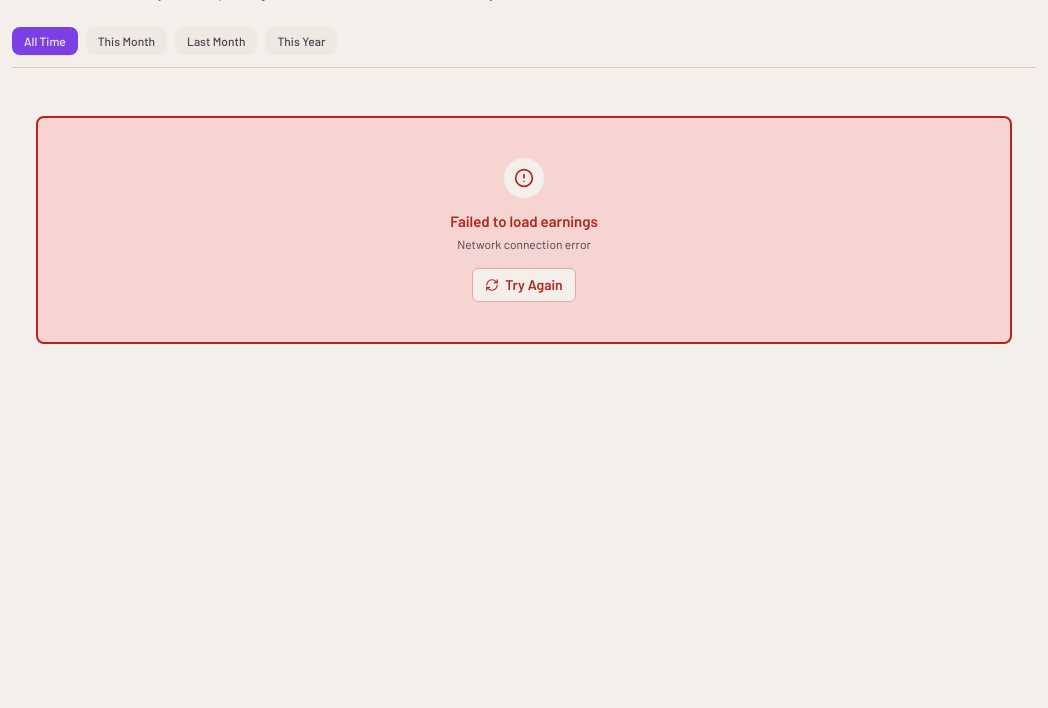
MentorEarningsPage (Task 42 / F-026) › displays error state with retry on API failure
Expected: the heading "Failed to load earnings" is shown, [450,210,598,232]
Expected: the text "Network connection error" is shown, [457,236,591,252]
What coordinates should you click on to do the following:
click the button "Try Again"
I would click on:
 (524, 285)
Its box is [472,268,576,302].
(page scrolled)
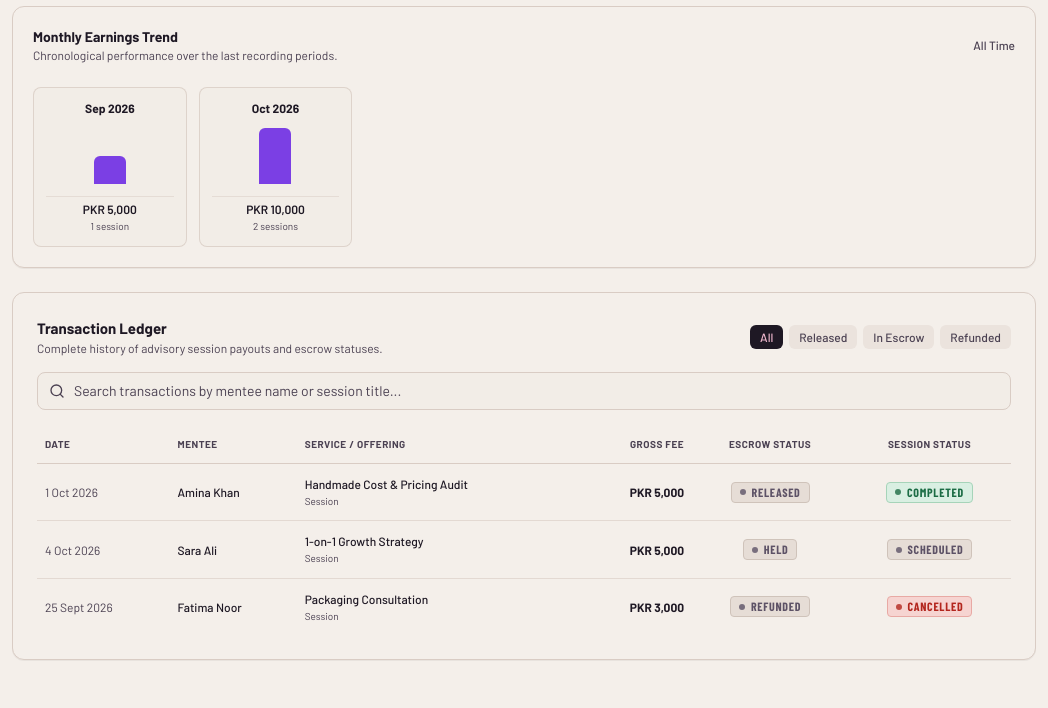
Expected: the text "Amina Khan" is shown, [170,464,297,521]
